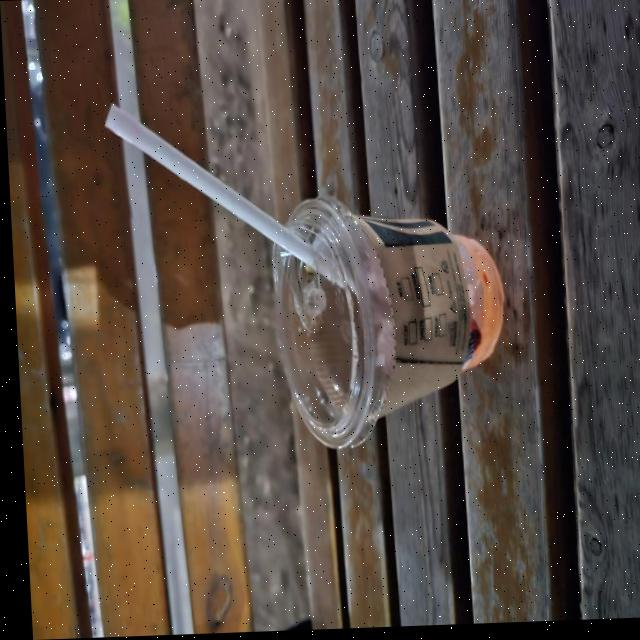cup: (257, 182, 514, 460)
